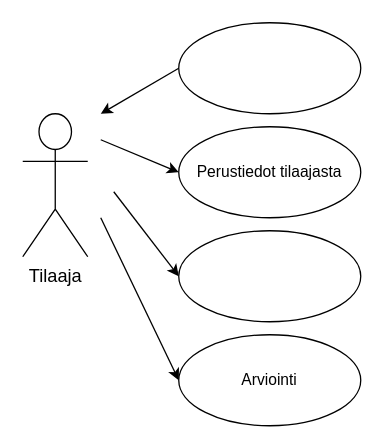
Some shapes in this 384 by 448 pixel diagram are drawn without their labels. Each missing label, with the box of its shape:
Kutsu arviontiin: (177, 21, 361, 114)
Linkki ONT:hen: (177, 229, 361, 322)
